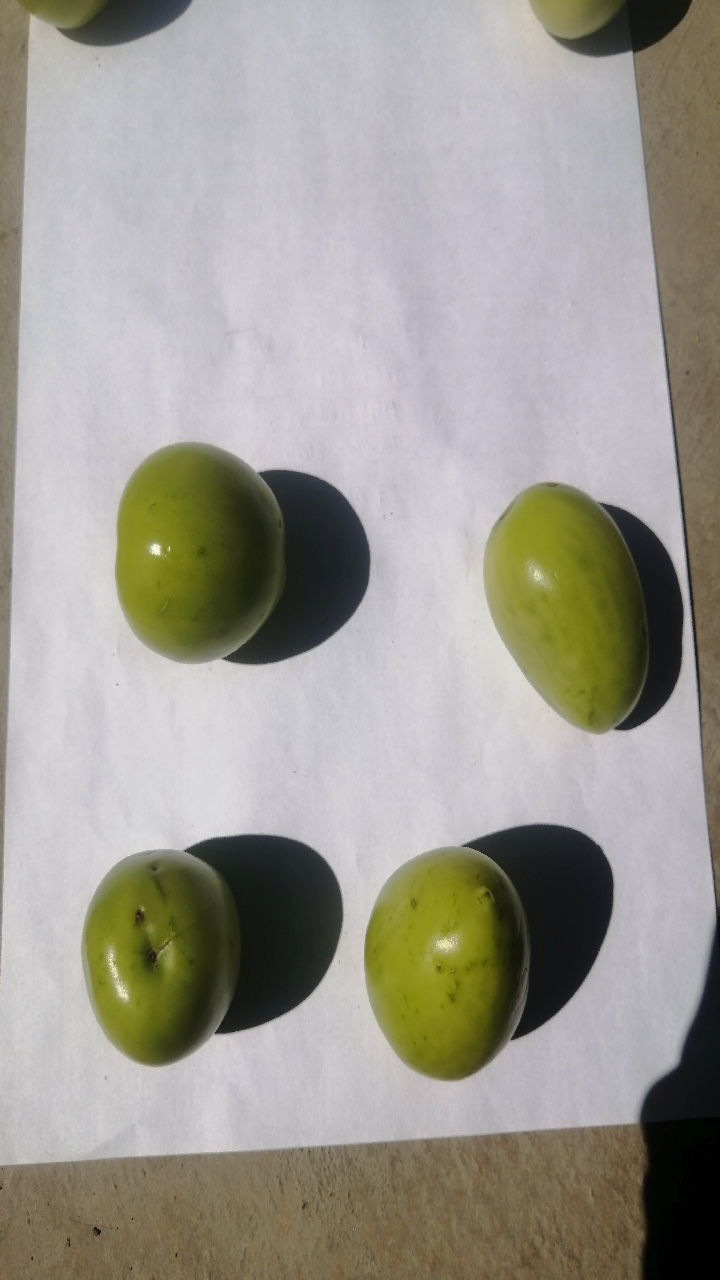tomateVerde: (341, 834, 543, 1097), (52, 829, 269, 1063), (475, 472, 657, 749), (103, 432, 298, 680)
